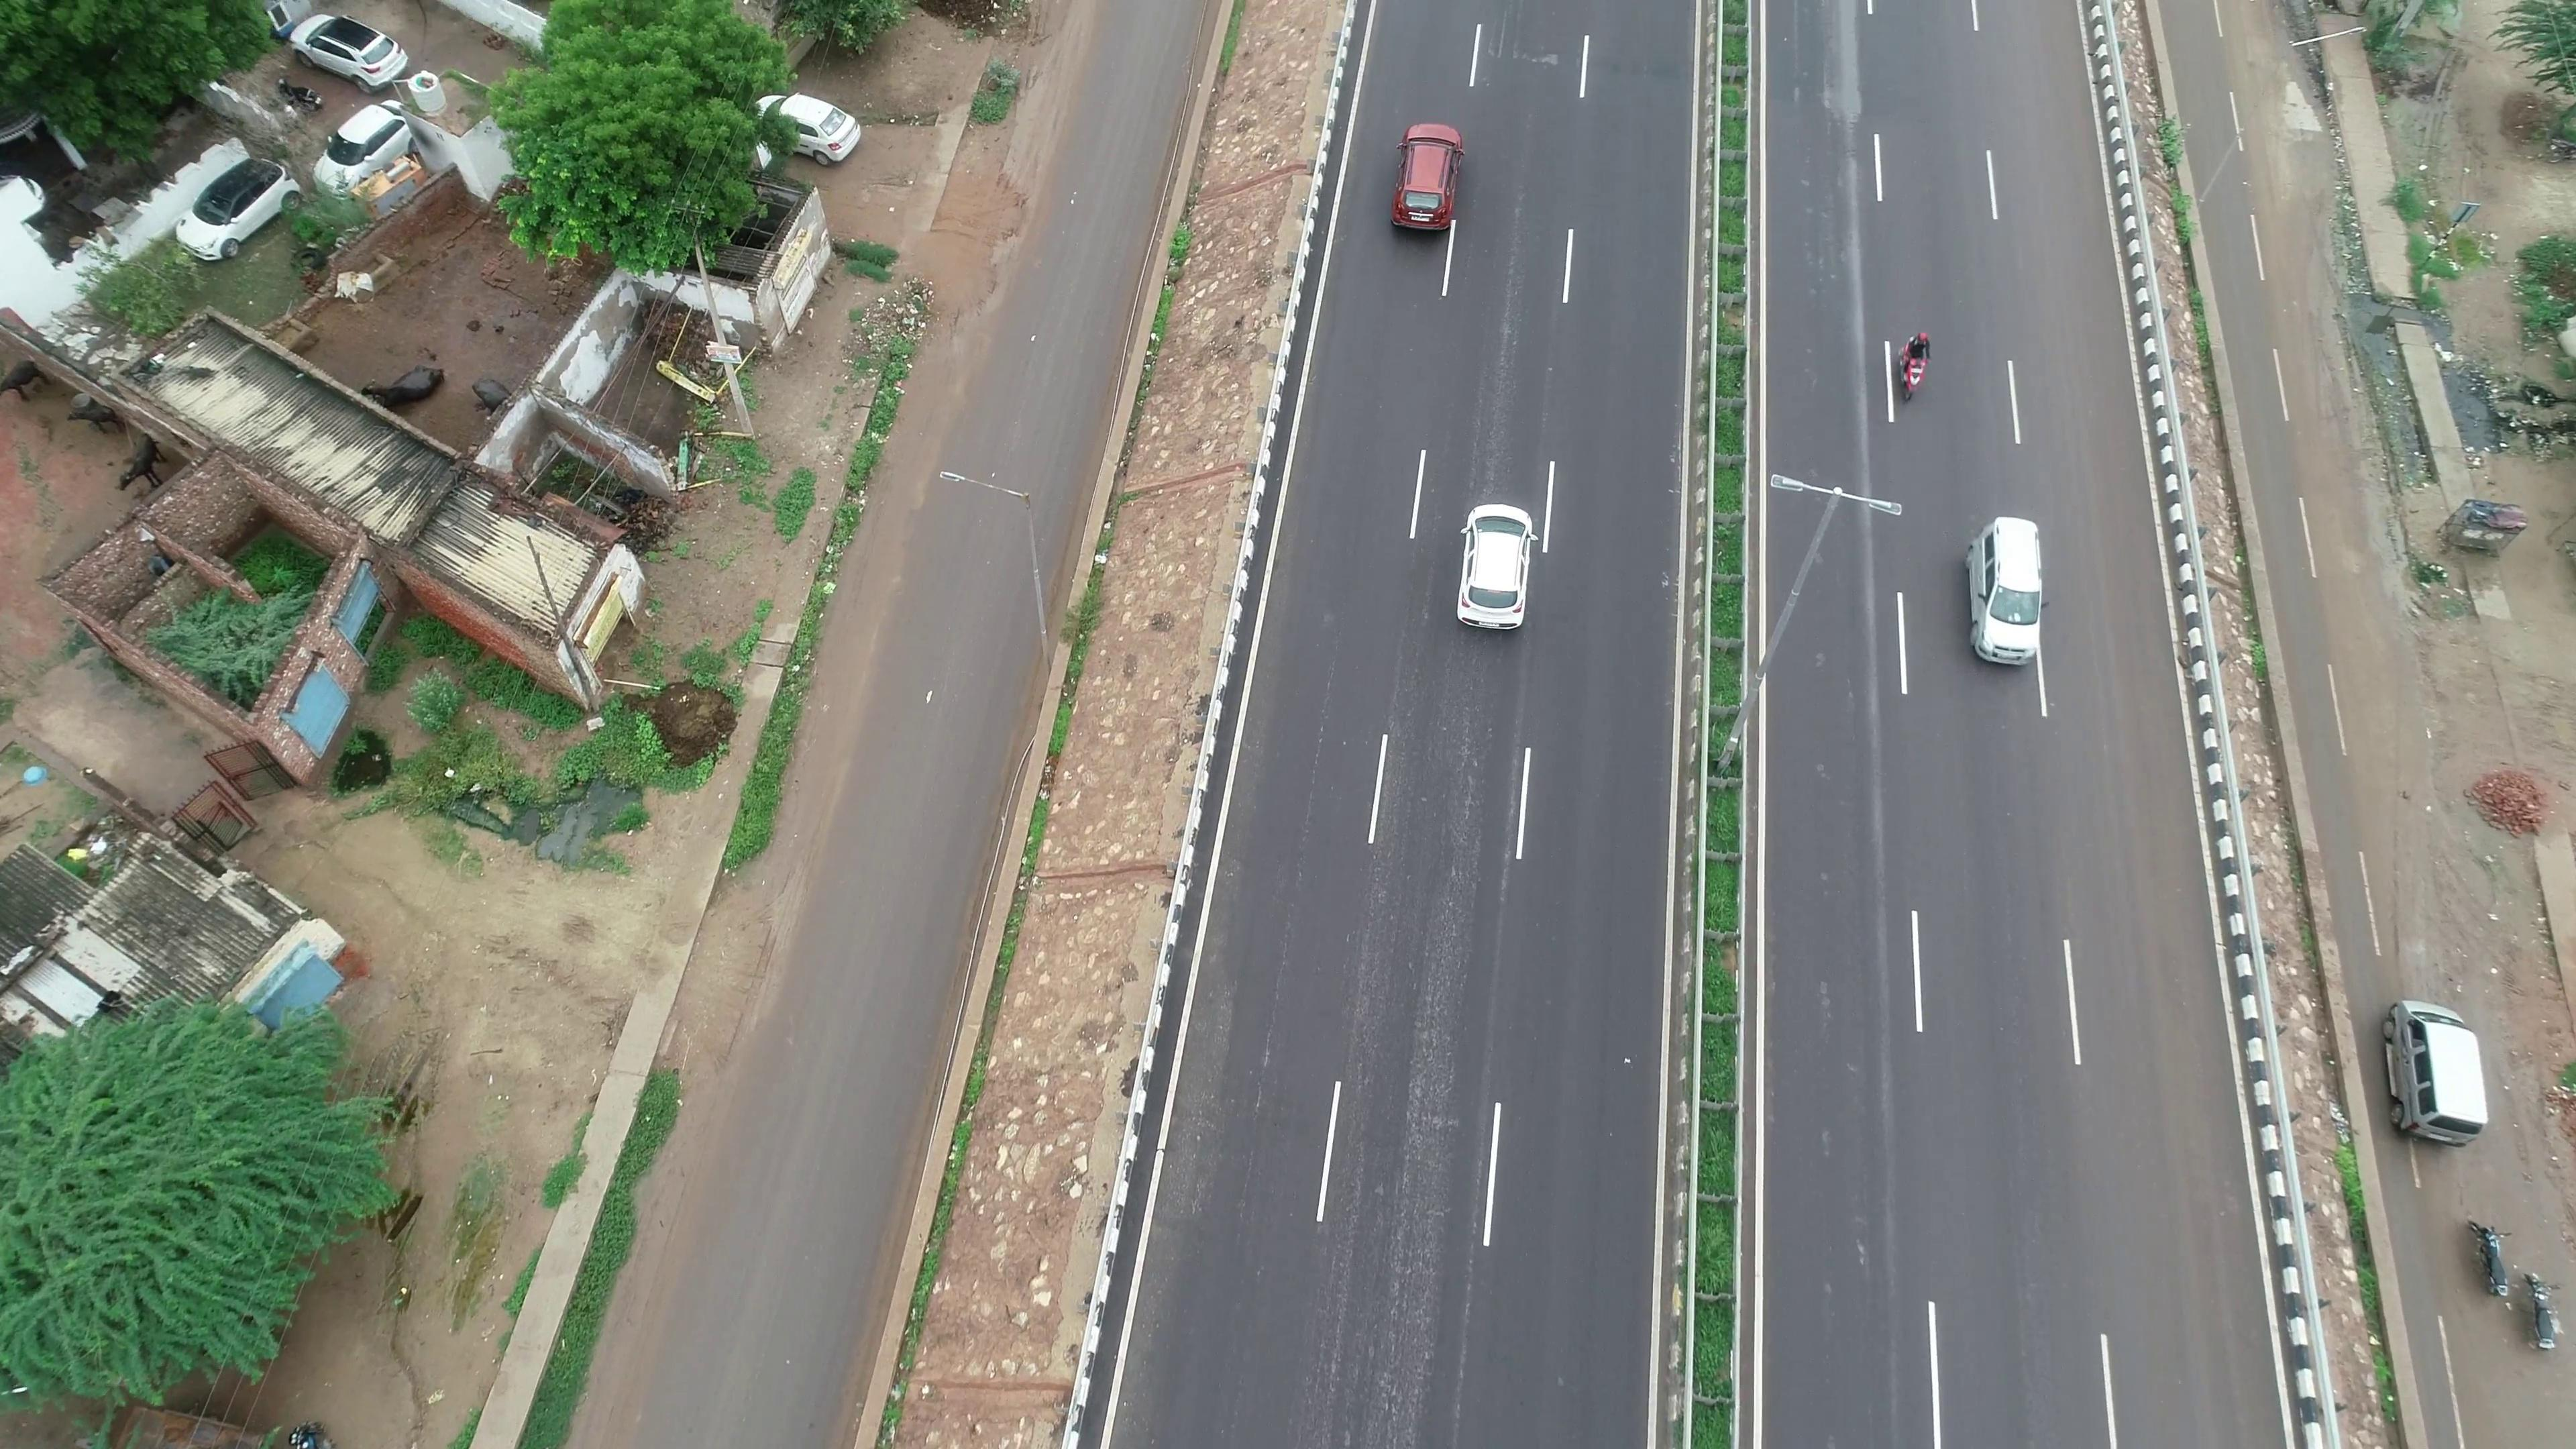Muddy_road: (2321, 550, 2516, 962), (2259, 163, 2388, 508)
